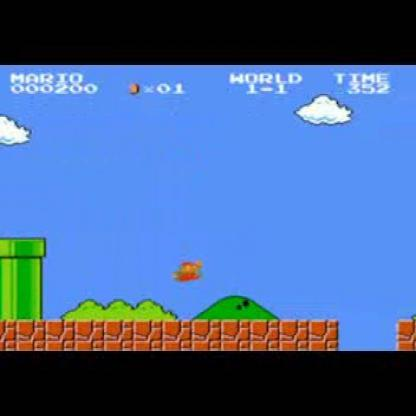Hoyo: (336, 318, 400, 350)
